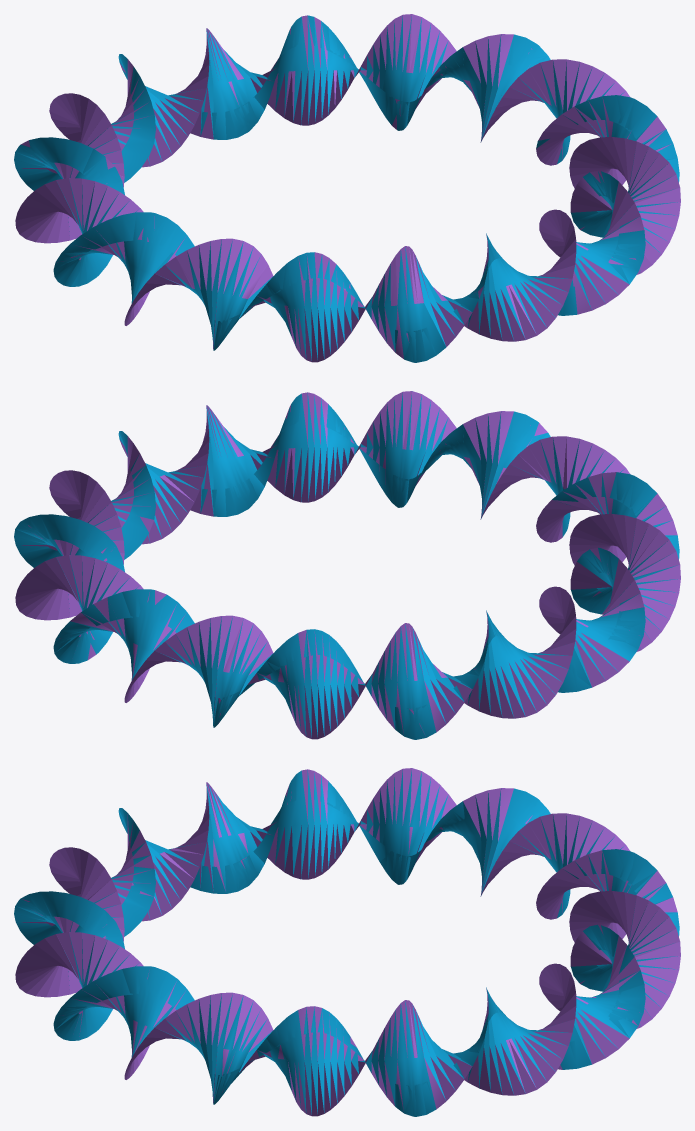
The model's file is DNA.fbx.
The picture shows the model from 3 angles, top to bottom: view 1: azimuth 30°, elevation 25°; view 2: azimuth 150°, elevation 25°; view 3: azimuth 270°, elevation 25°; orthographic projection.
Parts seen in each view (by area): view 1: 000-0-0; view 2: 000-0-0; view 3: 000-0-0.
Boxes of the visible parts, <box> form: 000-0-0: <box>14,14,680,362</box>; 000-0-0: <box>14,391,680,739</box>; 000-0-0: <box>14,768,680,1116</box>.
Bounding box in the file's own units: 274 × 47.24 × 269.
